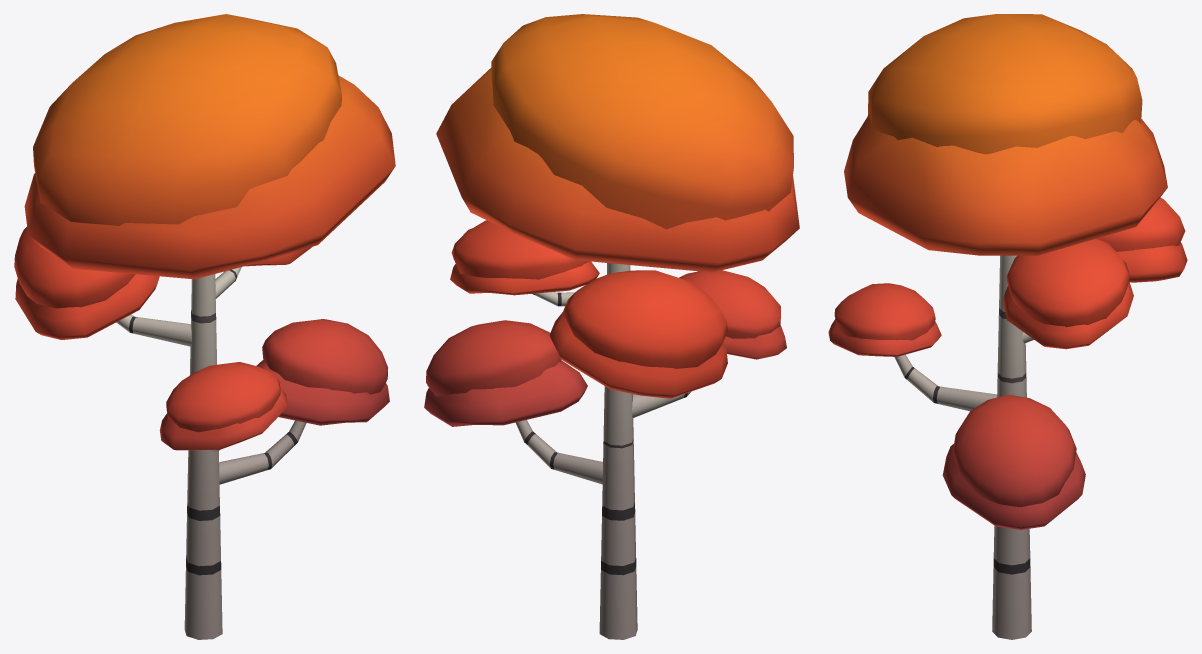
The model's file is tree_pack_21.glb.
3 renders of one model, left to right at view 1: azimuth 30°, elevation 25°; view 2: azimuth 150°, elevation 25°; view 3: azimuth 270°, elevation 25°, orthographic.
Visible parts, largest first — view 1: Tree.021; view 2: Tree.021; view 3: Tree.021.
Part boxes in pixels (bbox=[...]): Tree.021: bbox=[14, 14, 395, 639]; Tree.021: bbox=[424, 14, 799, 639]; Tree.021: bbox=[828, 14, 1187, 639].
Size of the model in its own units: 4.06 by 6.64 by 3.58.
1 material, 1 textured.
